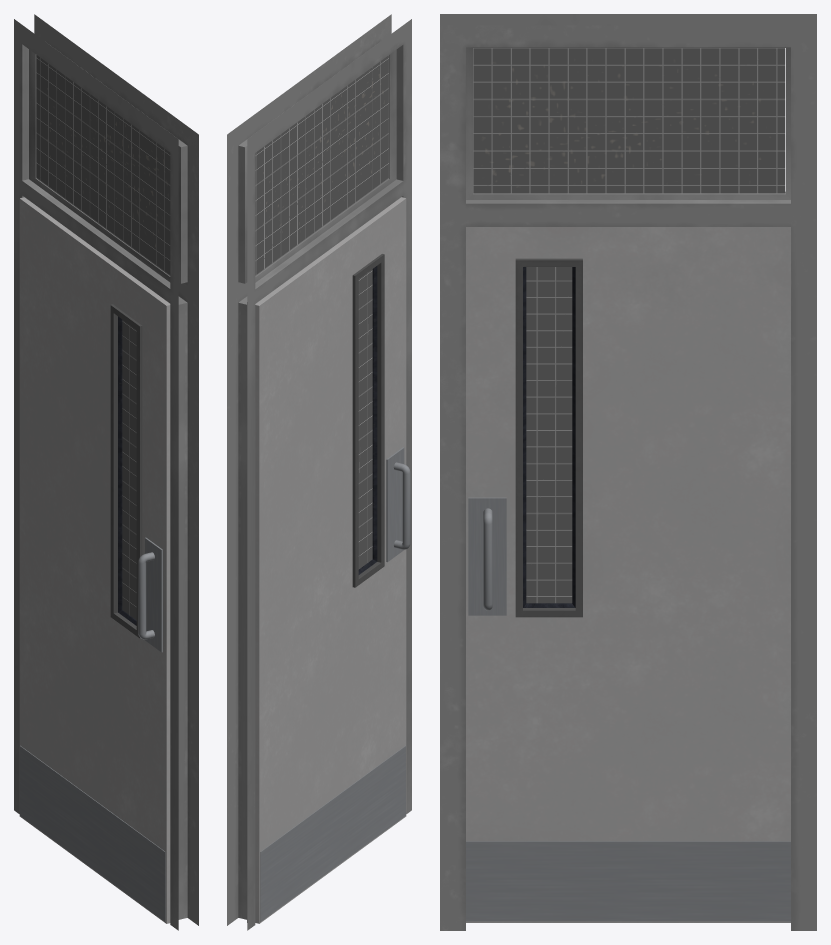
File: CR_Door_B_Grp.fbx
3 views of the same model, side by side, from view 1: azimuth 30°, elevation 25°; view 2: azimuth 150°, elevation 25°; view 3: azimuth 270°, elevation 25° (orthographic). The views are drawn at different scales.
Visible parts, largest first — view 1: Door1, Frame1, Glass, Glass2; view 2: Door1, Frame1, Glass, Glass2; view 3: Door1, Frame1, Glass, Glass2.
Boxes of the visible parts, x1,y1,x2,y2 form: Door1: (19, 197, 170, 923); Frame1: (14, 14, 198, 930); Glass: (36, 55, 170, 275); Glass2: (122, 320, 136, 619); Door1: (255, 197, 410, 923); Frame1: (227, 14, 411, 930); Glass: (255, 55, 388, 276); Glass2: (358, 269, 372, 569); Door1: (466, 227, 790, 922); Frame1: (440, 14, 816, 930); Glass: (473, 48, 785, 193); Glass2: (526, 267, 572, 603).
Size of the model in its own units: 15.5 by 271 by 102.
